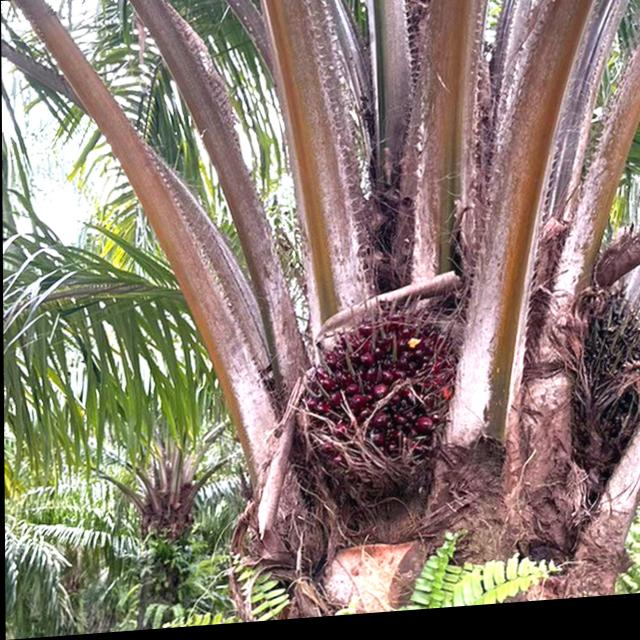ripe: (304, 285, 467, 454)
